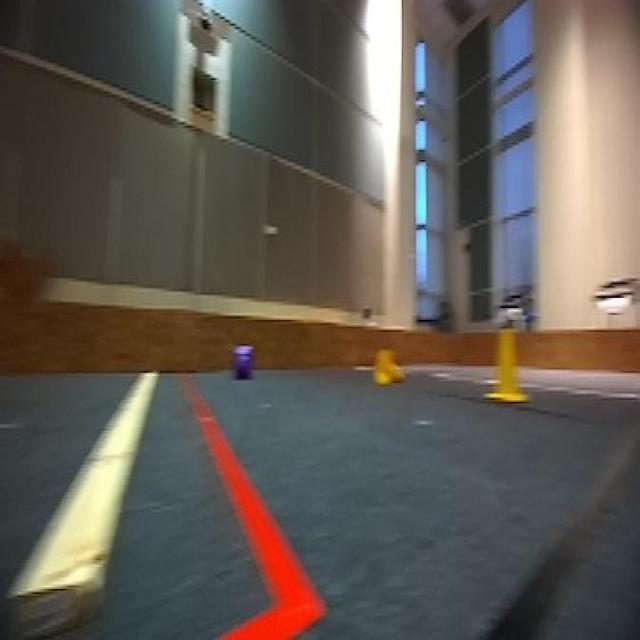frc_cone: (484, 322, 528, 405), (370, 344, 410, 388)
frc_cube: (232, 346, 254, 381)
